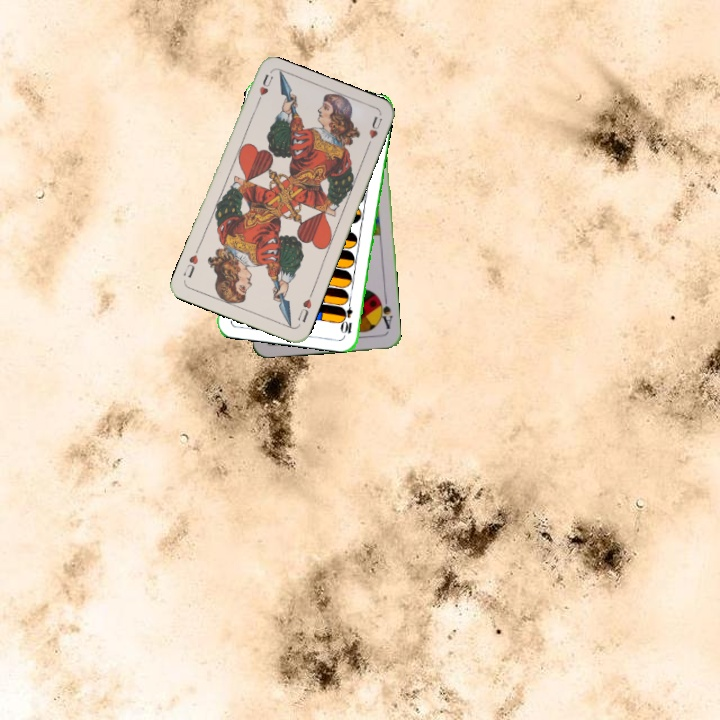E10: (339, 295, 355, 336)
HU: (252, 70, 275, 109), (293, 289, 315, 325)
SA: (374, 293, 395, 332)
